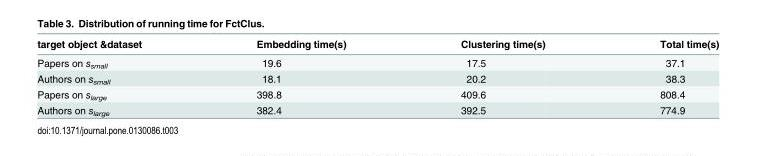table: (36, 37, 718, 116)
table column: (198, 37, 402, 116), (402, 37, 601, 116), (36, 37, 198, 116), (601, 37, 718, 116)
table column header: (36, 37, 718, 52)
table row: (36, 52, 718, 70), (36, 70, 718, 86), (36, 86, 718, 102), (36, 37, 718, 52), (36, 102, 718, 116)
